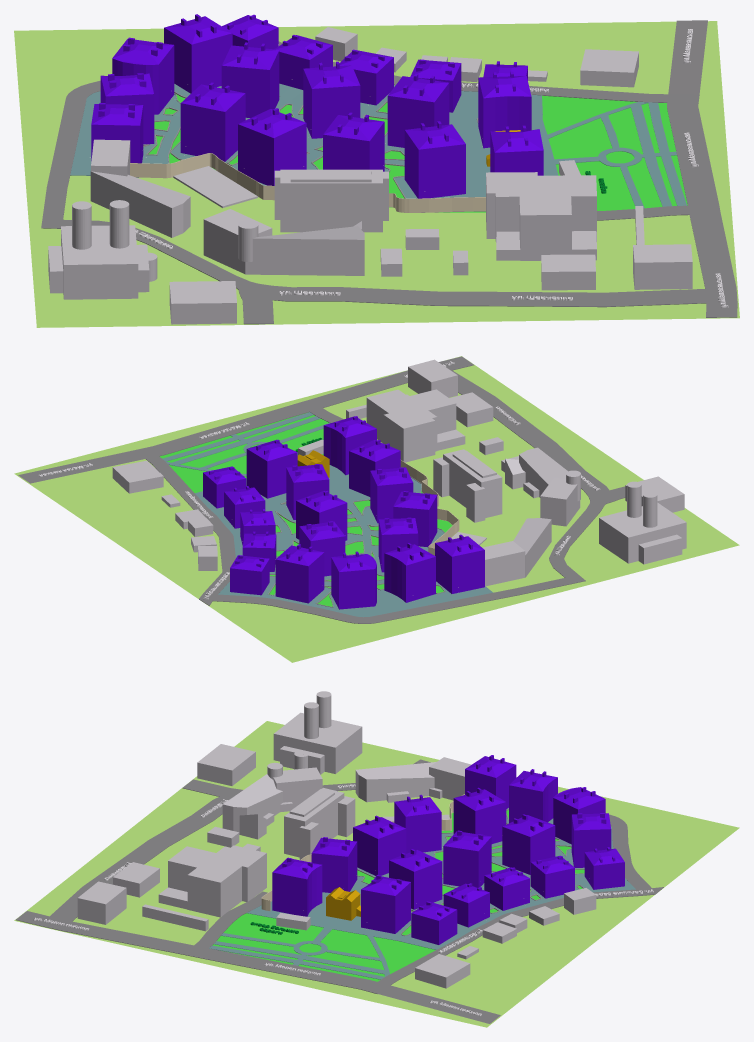
Rendered from neimark-hotel-lite.glb.
The picture shows the model from 3 angles, top to bottom: view 1: azimuth 30°, elevation 25°; view 2: azimuth 150°, elevation 25°; view 3: azimuth 270°, elevation 25°; orthographic projection. The views are drawn at different scales.
Parts seen in each view (by area): view 1: Plane, Road, RoadMain, Plane.001, Cube.009, Cylinder, Cube.002, Cube.005, Cube.001, Building4, Building8, Building11 (+25 smaller); view 2: Plane, Road, RoadMain, Cube.009, Cylinder, Plane.001, Cube.002, Cube.005, Cube.001, Building15, Building17, Building14 (+20 smaller); view 3: Plane, Road, RoadMain, Cube.009, Plane.001, Cylinder, Cube.002, Cube.001, Cube.005, Building1, Building2, Building12 (+21 smaller).
Part boxes in pixels (<box>): Plane: <box>14,21,739,327</box>; Road: <box>41,20,737,324</box>; RoadMain: <box>70,83,686,208</box>; Plane.001: <box>148,93,687,212</box>; Cube.009: <box>486,172,644,260</box>; Cylinder: <box>48,200,157,299</box>; Cube.002: <box>203,209,364,275</box>; Cube.005: <box>274,169,388,232</box>; Cube.001: <box>90,139,190,237</box>; Building4: <box>404,121,465,198</box>; Building8: <box>238,108,306,185</box>; Building11: <box>180,82,245,161</box>; Plane: <box>14,356,739,662</box>; Road: <box>18,356,625,623</box>; RoadMain: <box>162,412,492,617</box>; Cube.009: <box>346,389,465,462</box>; Cylinder: <box>599,481,686,564</box>; Plane.001: <box>160,412,452,606</box>; Cube.002: <box>505,447,580,526</box>; Cube.005: <box>433,449,502,522</box>; Cube.001: <box>482,518,551,586</box>; Building15: <box>384,543,435,602</box>; Building17: <box>275,544,324,603</box>; Building14: <box>435,534,484,593</box>; Plane: <box>14,721,739,1027</box>; Road: <box>16,759,663,1023</box>; RoadMain: <box>209,808,635,979</box>; Cube.009: <box>142,845,266,931</box>; Plane.001: <box>212,810,584,981</box>; Cylinder: <box>273,691,362,774</box>; Cube.002: <box>222,762,322,839</box>; Cube.001: <box>355,757,471,802</box>; Cube.005: <box>284,787,355,859</box>; Building1: <box>272,857,322,916</box>; Building2: <box>361,875,410,933</box>; Building12: <box>502,814,555,874</box>.
Bounding box in the file's own units: 8.23 × 0.7157 × 8.23.
